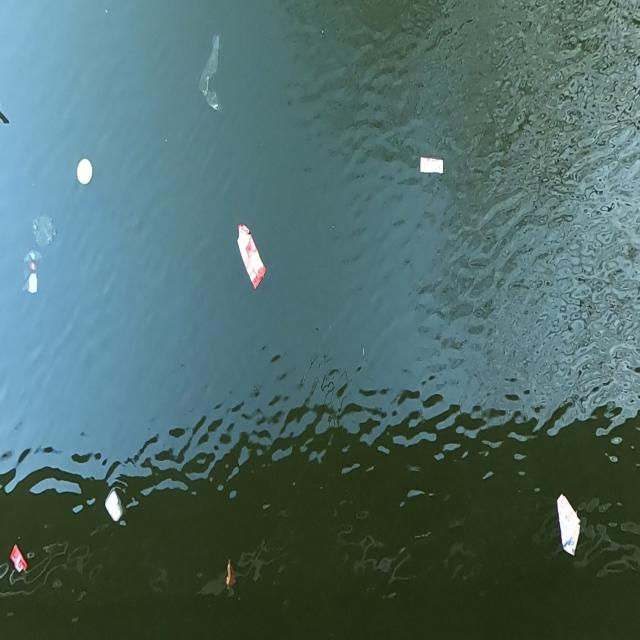Autre plastique: (232, 216, 272, 294), (554, 488, 586, 565)
Sac plastique: (194, 28, 229, 118)
